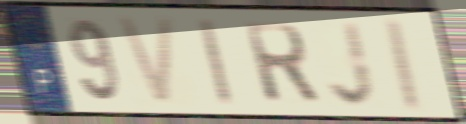9: (66, 17, 121, 103)
I: (385, 15, 427, 114), (196, 16, 236, 108)
J: (325, 19, 379, 110)
R: (241, 21, 323, 107)
V: (113, 14, 177, 109)
